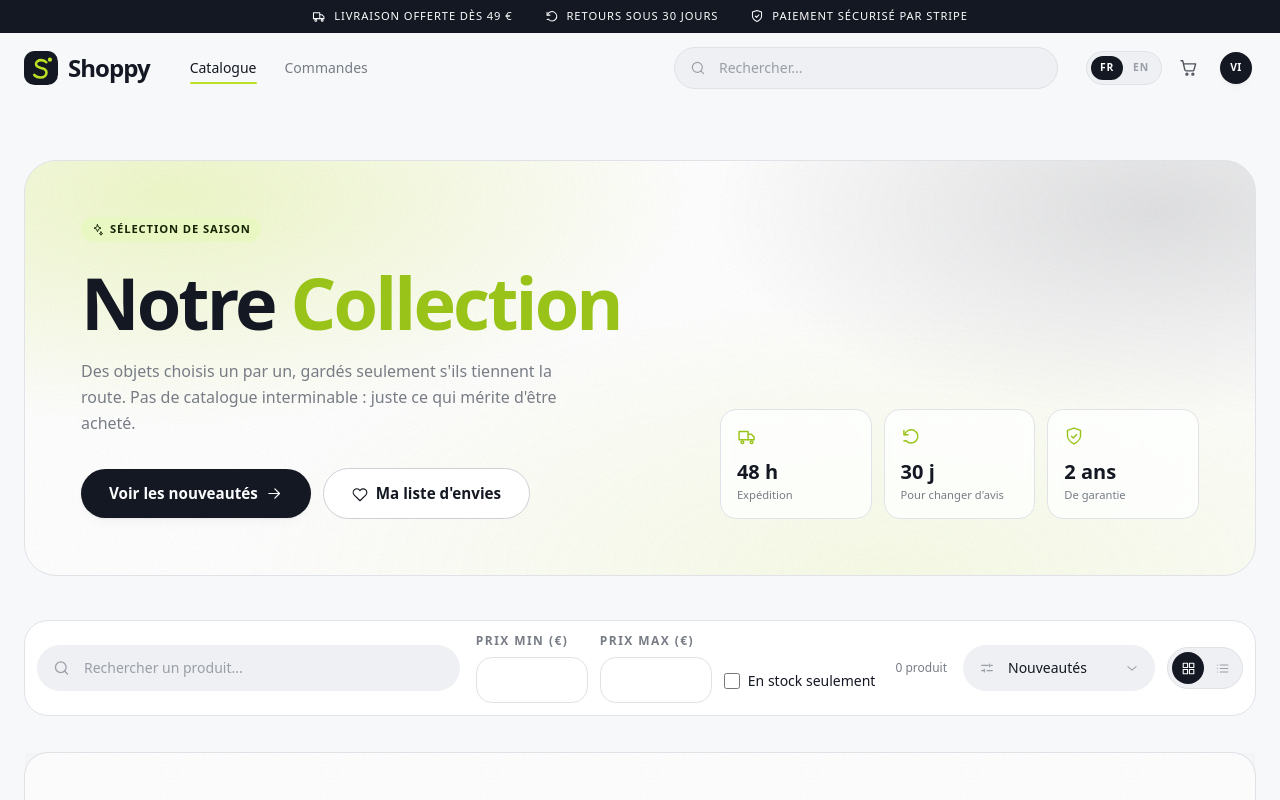
Test case: AccountMenu › closes once an entry is followed
The width and height of the screenshot is (1280, 800).
Step 1. Click the button with aria-label "Mon compte" → click(1236, 68), box 1216,48 -> 1256,88
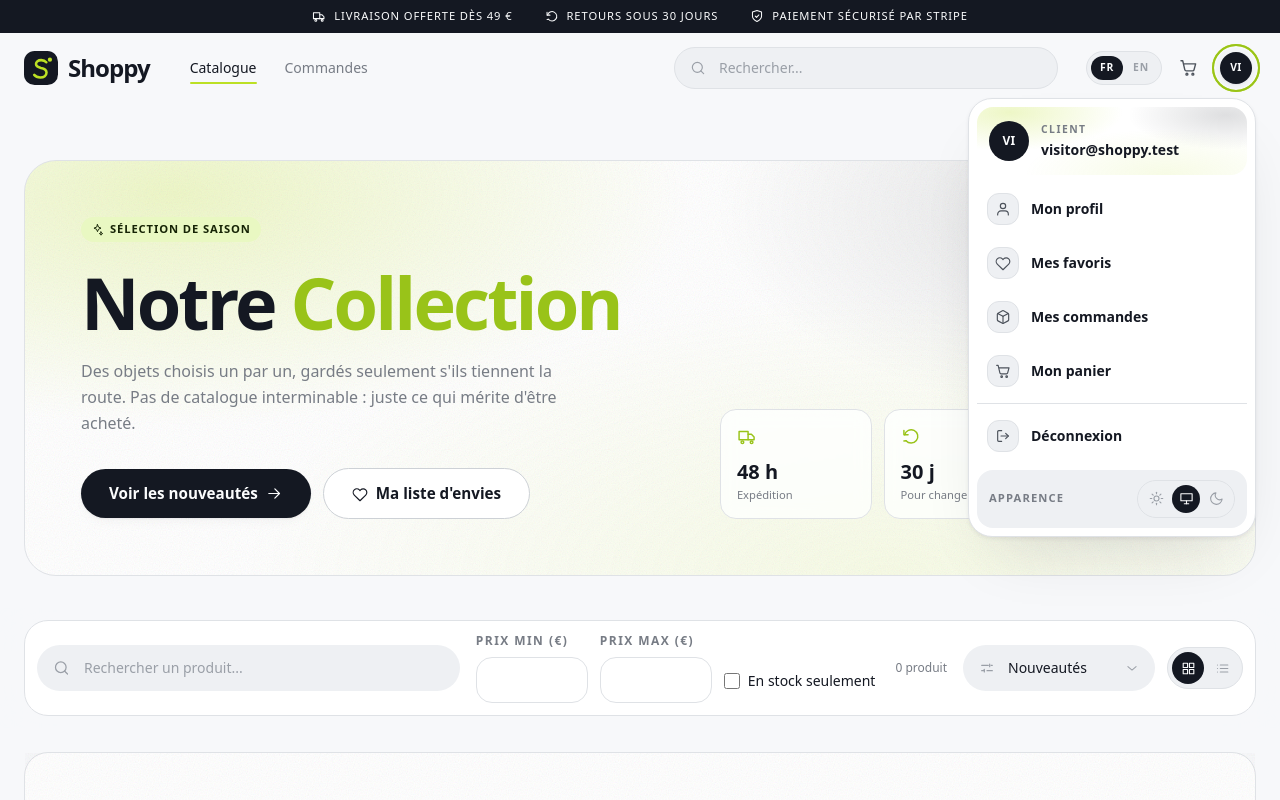
Step 2. Click the menu item "Mes favoris" → click(1049, 263), box 987,247 -> 1111,279
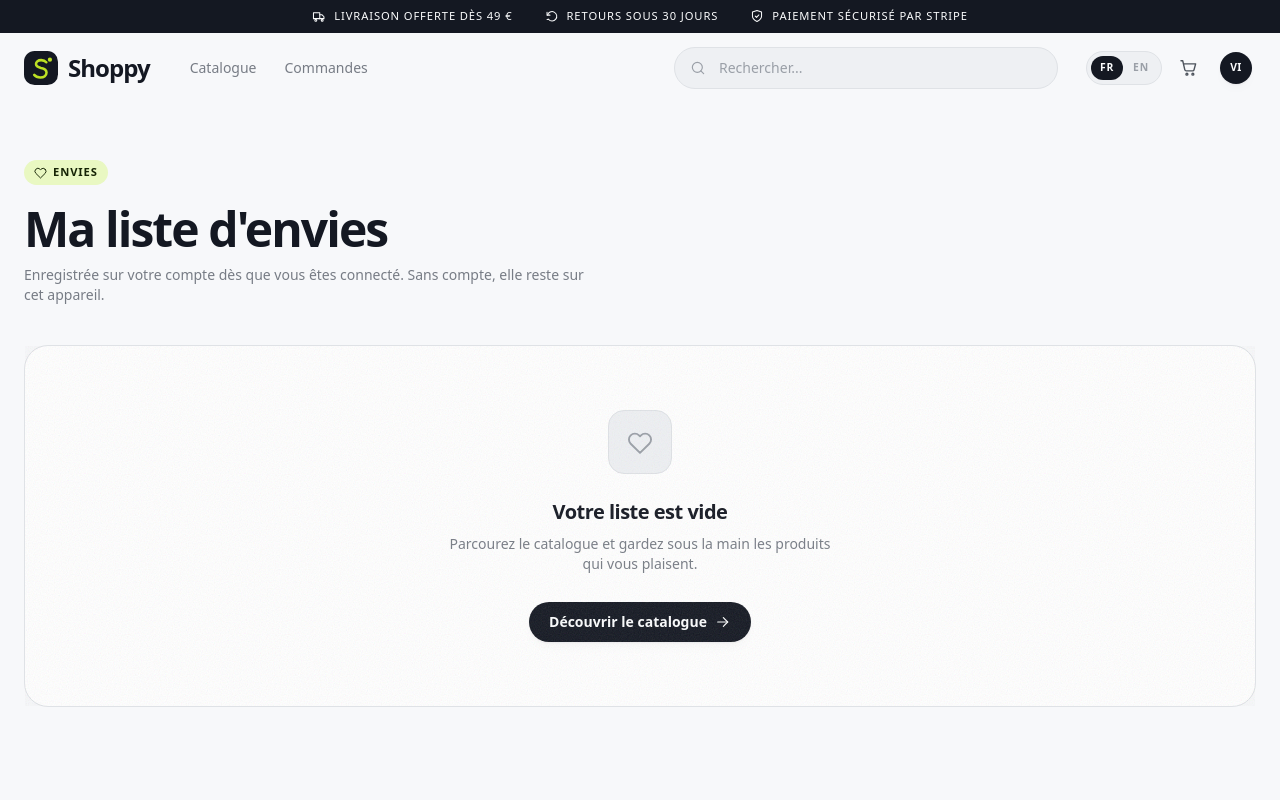
Result: the menu is gone
